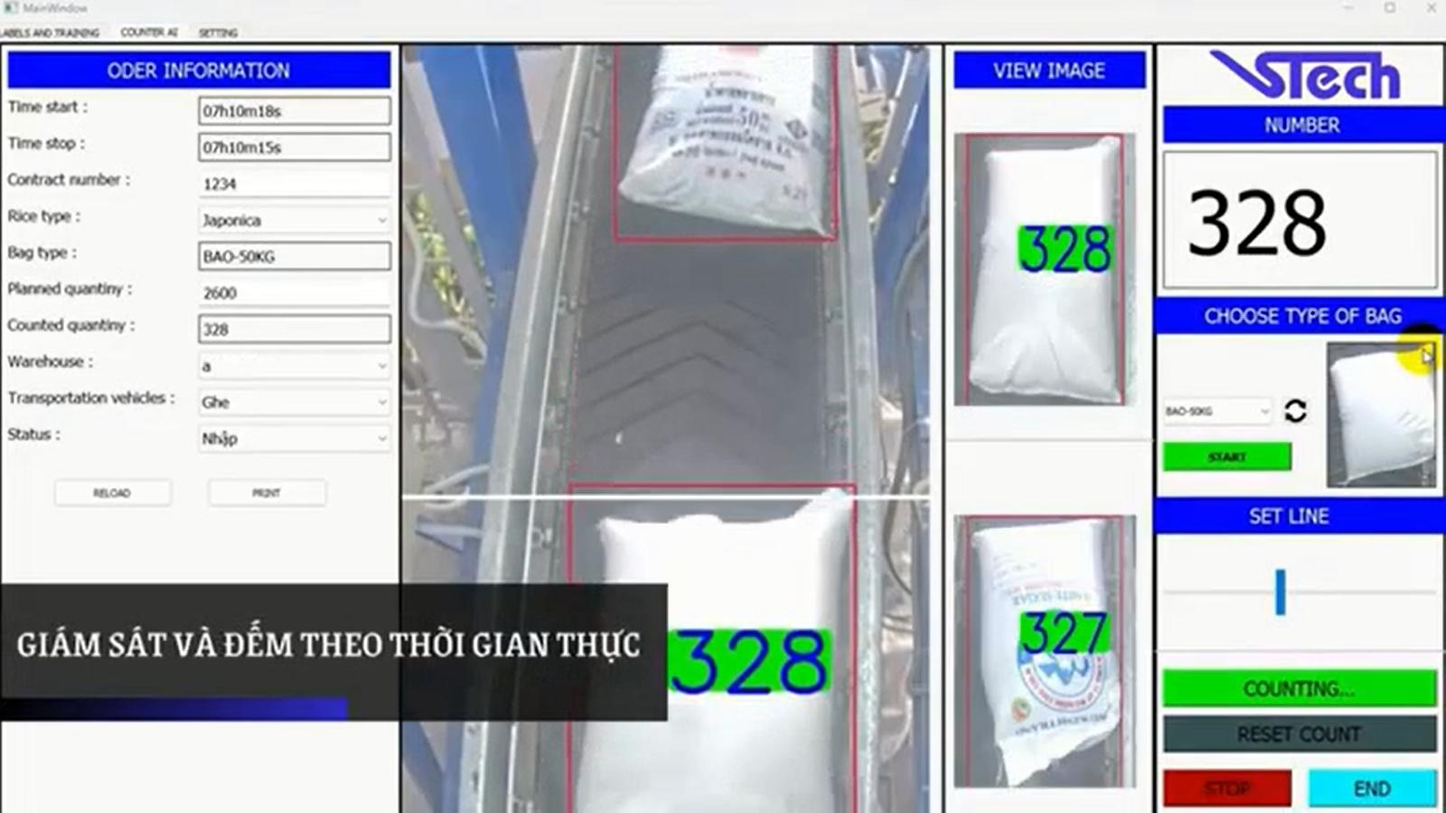rice-bag: (574, 490, 851, 812), (618, 45, 831, 233), (972, 518, 1121, 783), (969, 139, 1119, 402)
